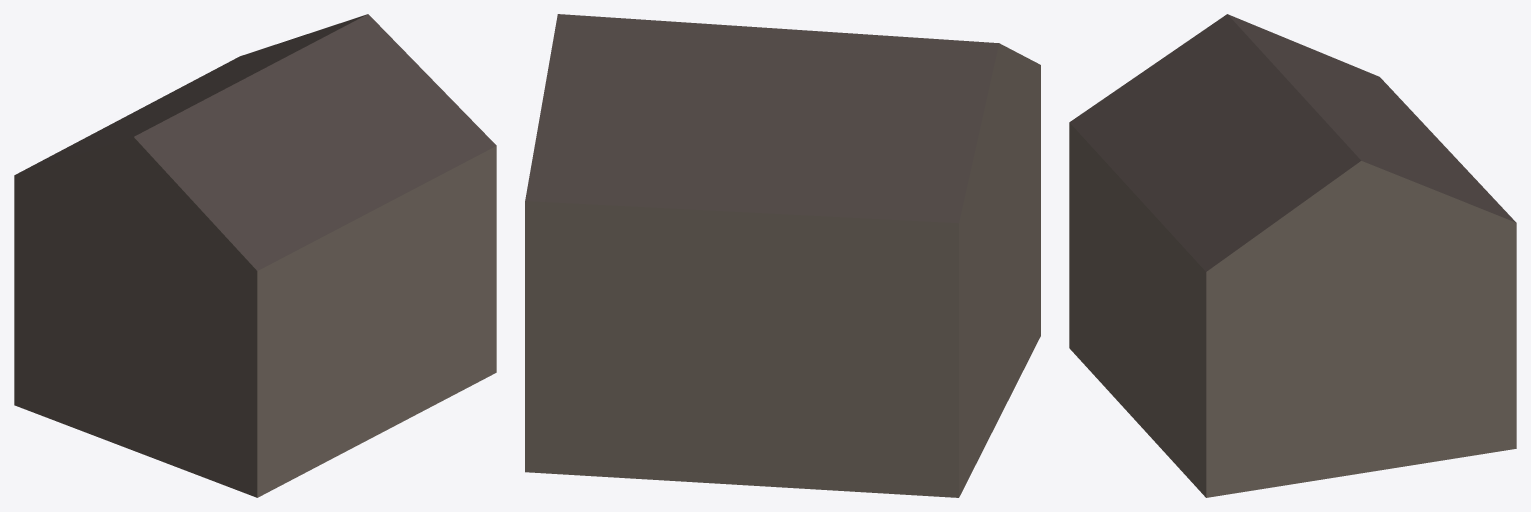
3 views of the same model, side by side, from view 1: azimuth 30°, elevation 25°; view 2: azimuth 150°, elevation 25°; view 3: azimuth 270°, elevation 25° (orthographic). The views are drawn at different scales.
Parts seen in each view (by area): view 1: HP-w783664779; view 2: HP-w783664779; view 3: HP-w783664779.
Part boxes in pixels (x1=…): HP-w783664779: x1=14, y1=14, x2=496, y2=497; HP-w783664779: x1=525, y1=14, x2=1040, y2=497; HP-w783664779: x1=1069, y1=14, x2=1516, y2=497.
Size of the model in its own units: 10.95 by 8.3 by 10.77.
